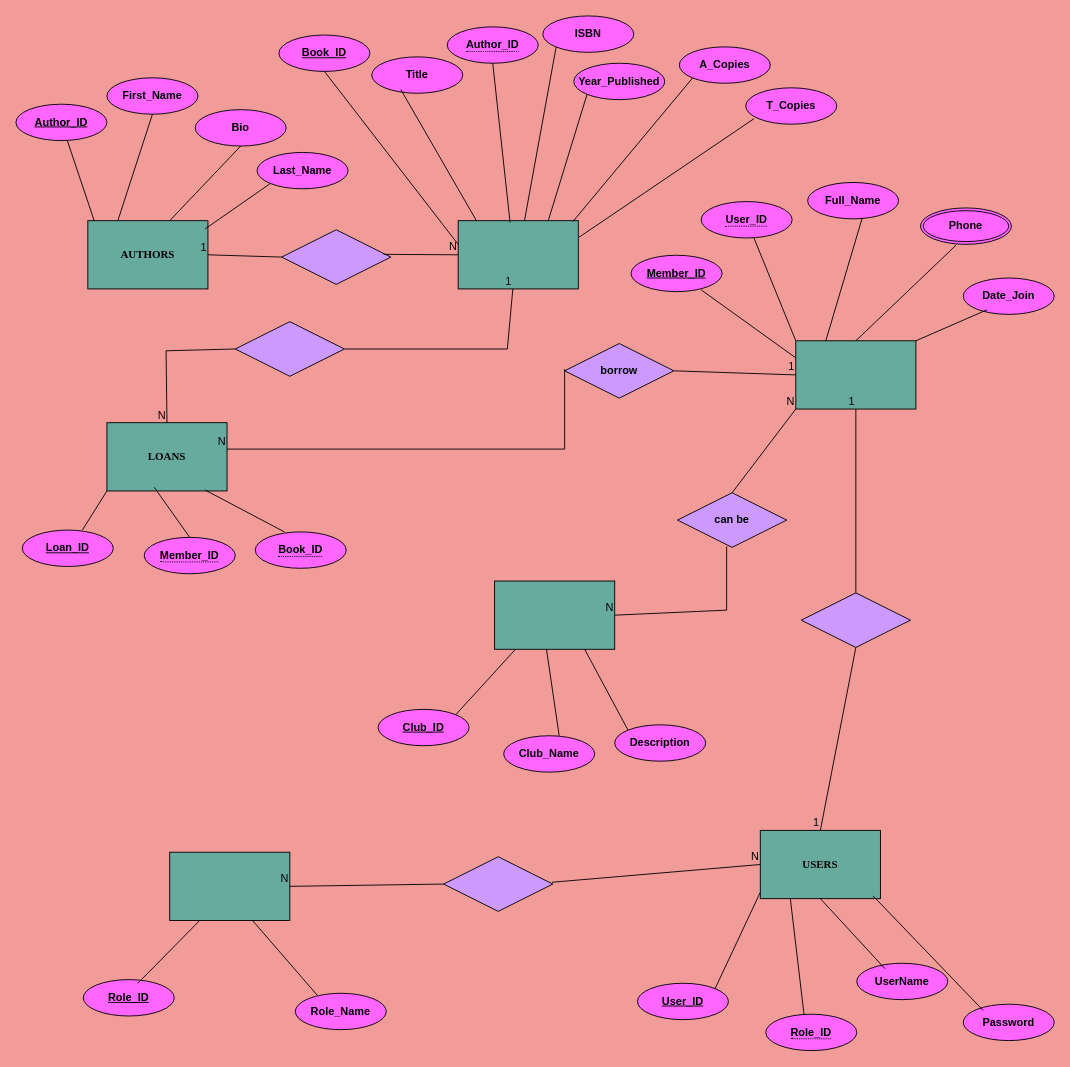
Some shapes in this 1070 by 1067 pixel diagram are drawn without their labels. Each missing label, with the box of its shape:
appear: (234, 321, 344, 376)
BOOKCLUBS: (494, 580, 615, 649)
BOOKS: (457, 220, 578, 289)
can have: (443, 856, 553, 911)
MEMBERS: (795, 340, 916, 409)
ROLES: (169, 851, 290, 920)
single login: (800, 592, 910, 647)
Writes: (281, 229, 391, 284)
